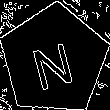N_N: (29, 30, 79, 89)
